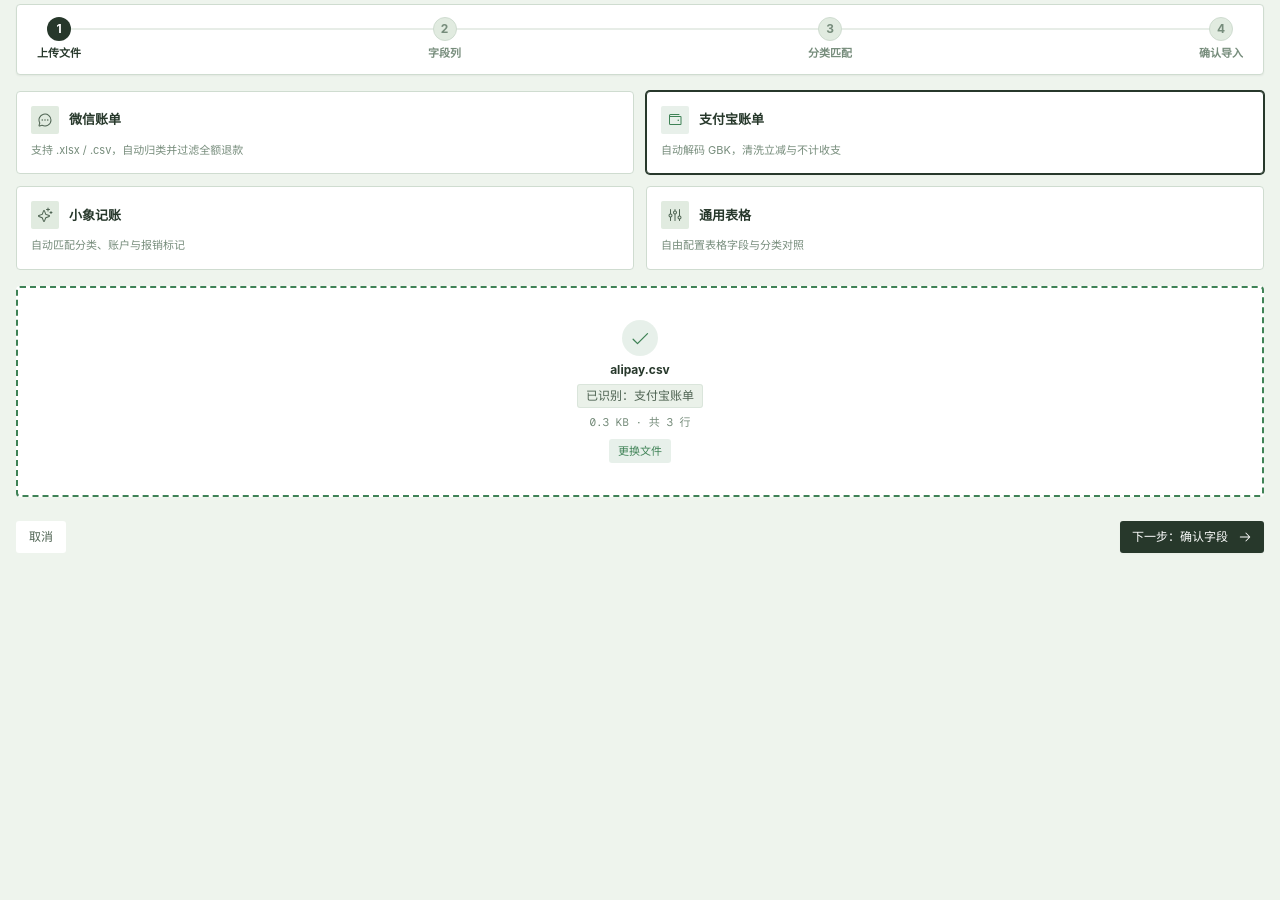
Test case: ImportSubPage - Category Mapping & Bill Formats › auto-detects Alipay GBK CSV, strips promo tags, skips closed/neutral rows, and creates credit account
Earlier steps of the test are not shown.
Later steps or results of the test are not shown.
Check: the text "已识别：支付宝账单" is shown, box x1=586 y1=388 x2=694 y2=404
Click the button "下一步：确认字段" at (1192, 537), box x1=1120 y1=521 x2=1264 y2=553
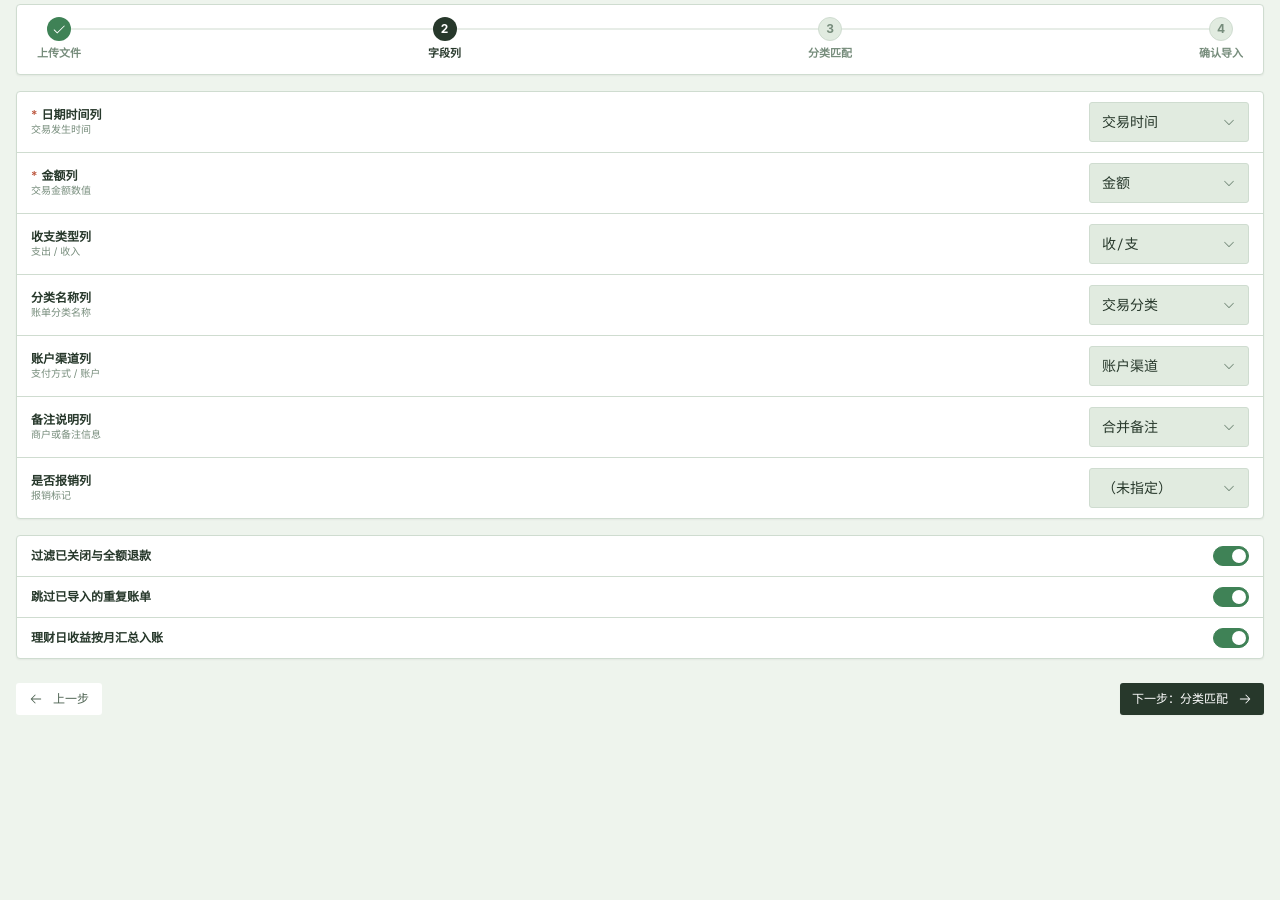
Check: the text "过滤已关闭与全额退款" is shown, box x1=31 y1=548 x2=151 y2=564
Click the button "下一步：分类匹配" at (1192, 698), box x1=1120 y1=682 x2=1264 y2=714
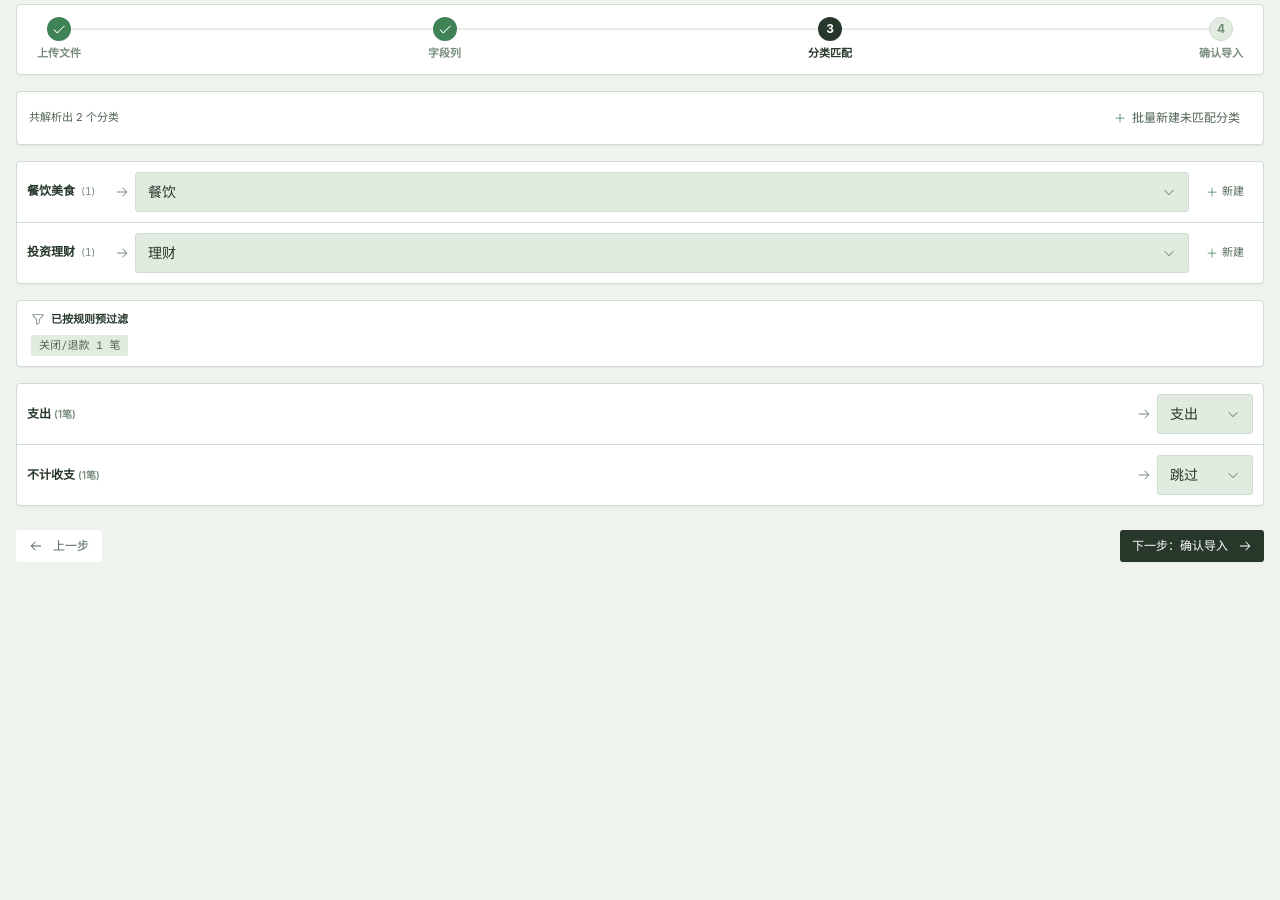
Click the button "下一步：确认导入" at (1192, 546), box x1=1120 y1=530 x2=1264 y2=562
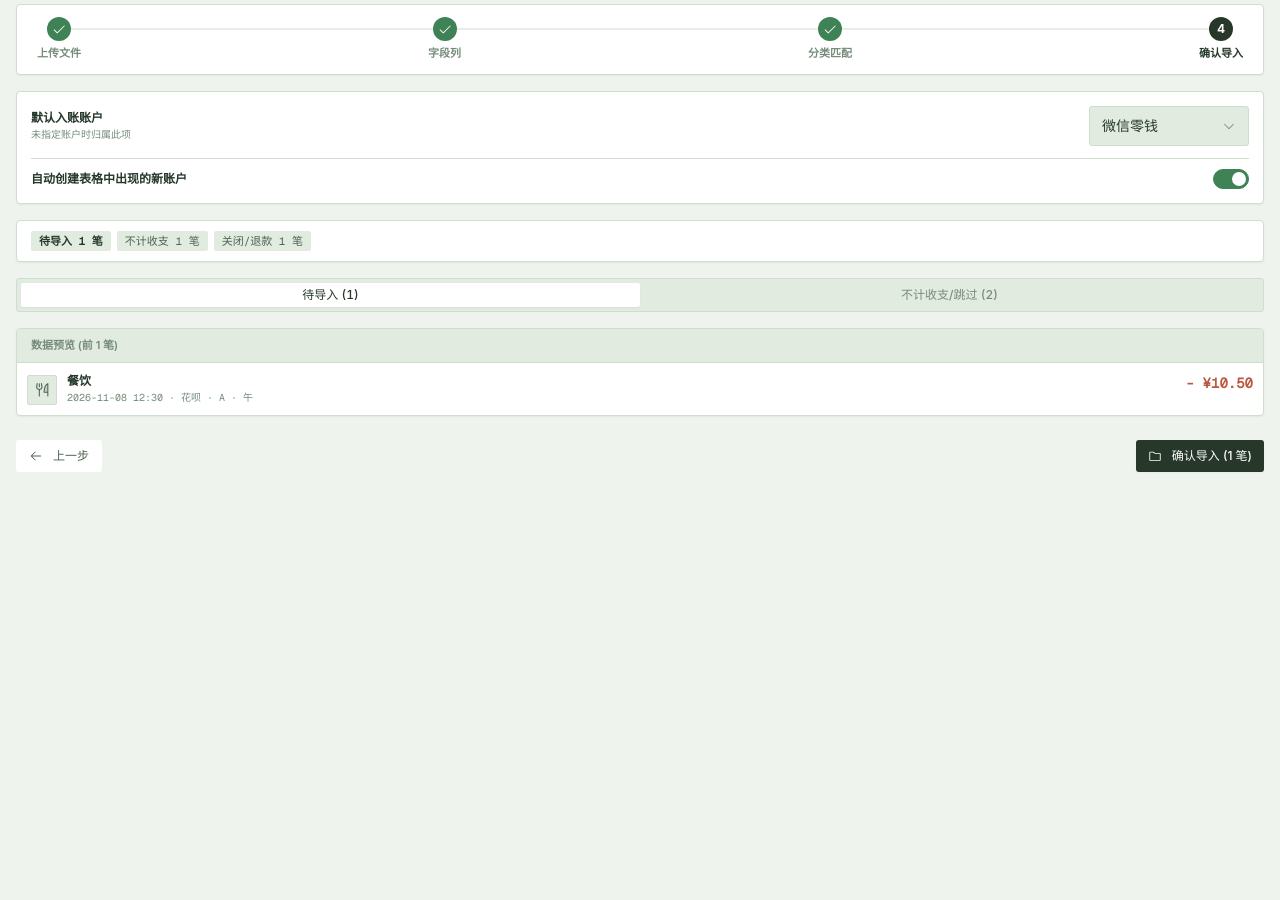
Check: the text "待导入 1 笔" is shown, box x1=31 y1=230 x2=111 y2=251
